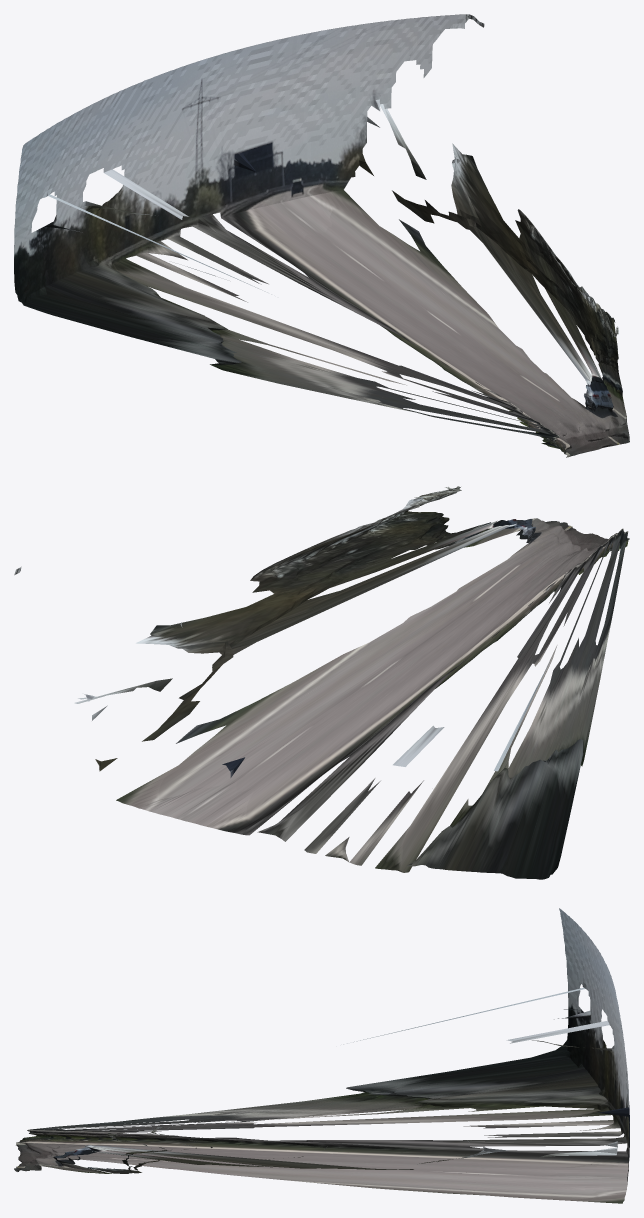
3 renders of one model, top to bottom at view 1: azimuth 30°, elevation 25°; view 2: azimuth 150°, elevation 25°; view 3: azimuth 270°, elevation 25°, orthographic. The views are drawn at different scales.
Visible parts, largest first — view 1: defaultobject; view 2: defaultobject; view 3: defaultobject.
Part boxes in pixels (x1=…): defaultobject: x1=14, y1=14, x2=629, y2=457; defaultobject: x1=14, y1=486, x2=629, y2=879; defaultobject: x1=14, y1=908, x2=629, y2=1203.
Size of the model in its own units: 35.3 by 13.08 by 44.7.
Materials: 1 (1 with a texture image).
